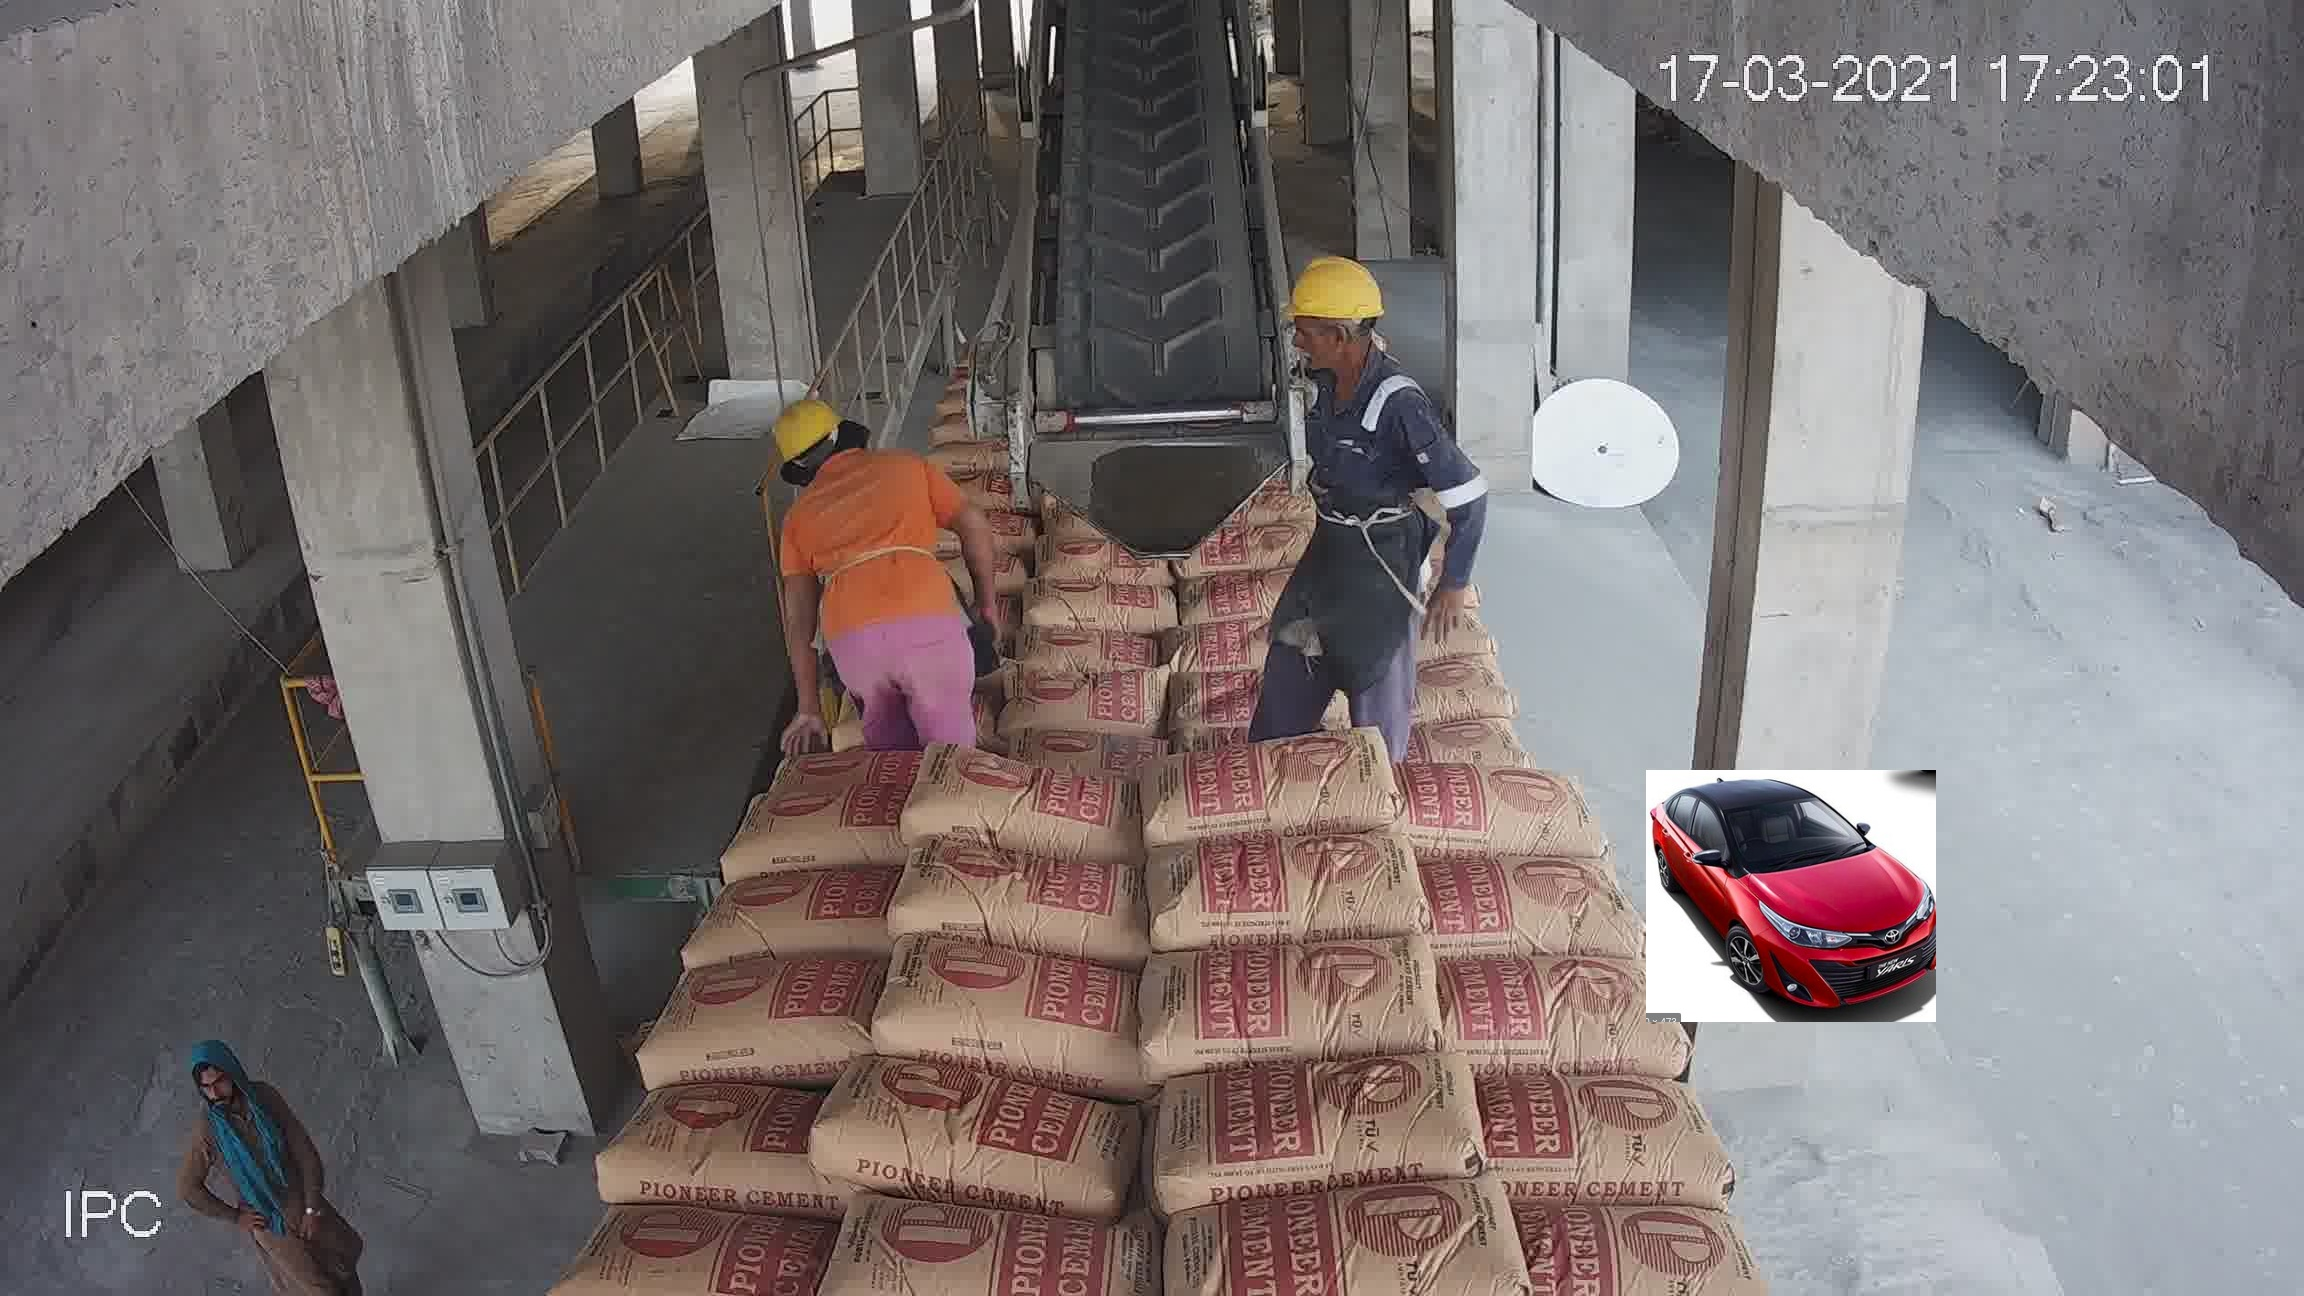bag: (1059, 380, 1206, 503), (1087, 52, 1199, 150)
bag_v: (1163, 1032, 1461, 1204), (1150, 1165, 1491, 1296), (1146, 921, 1461, 1059), (1434, 927, 1684, 1084), (1154, 817, 1426, 956), (1476, 1067, 1720, 1212), (837, 1192, 1174, 1296), (655, 946, 877, 1092), (812, 1079, 1124, 1180), (611, 1074, 824, 1222), (1423, 847, 1647, 976), (1146, 733, 1407, 843), (869, 962, 1130, 1062), (1492, 1203, 1760, 1296), (1388, 742, 1589, 858), (911, 848, 1149, 942), (945, 665, 1161, 763), (764, 617, 949, 731), (892, 779, 1125, 869), (536, 1225, 826, 1296), (692, 853, 894, 949), (1165, 665, 1385, 753), (1184, 570, 1375, 669), (753, 703, 943, 802), (731, 772, 899, 885), (967, 600, 1171, 668), (1389, 687, 1563, 758), (1381, 600, 1529, 680), (1374, 565, 1465, 619), (1103, 533, 1184, 585), (870, 578, 943, 635), (1378, 529, 1456, 571), (905, 532, 956, 585)
belt: (1046, 0, 1268, 416)
